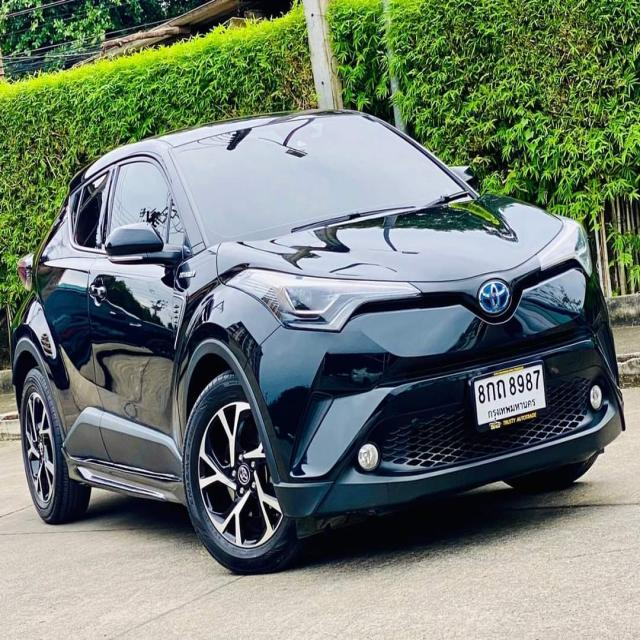license_plate: (470, 359, 547, 438)
